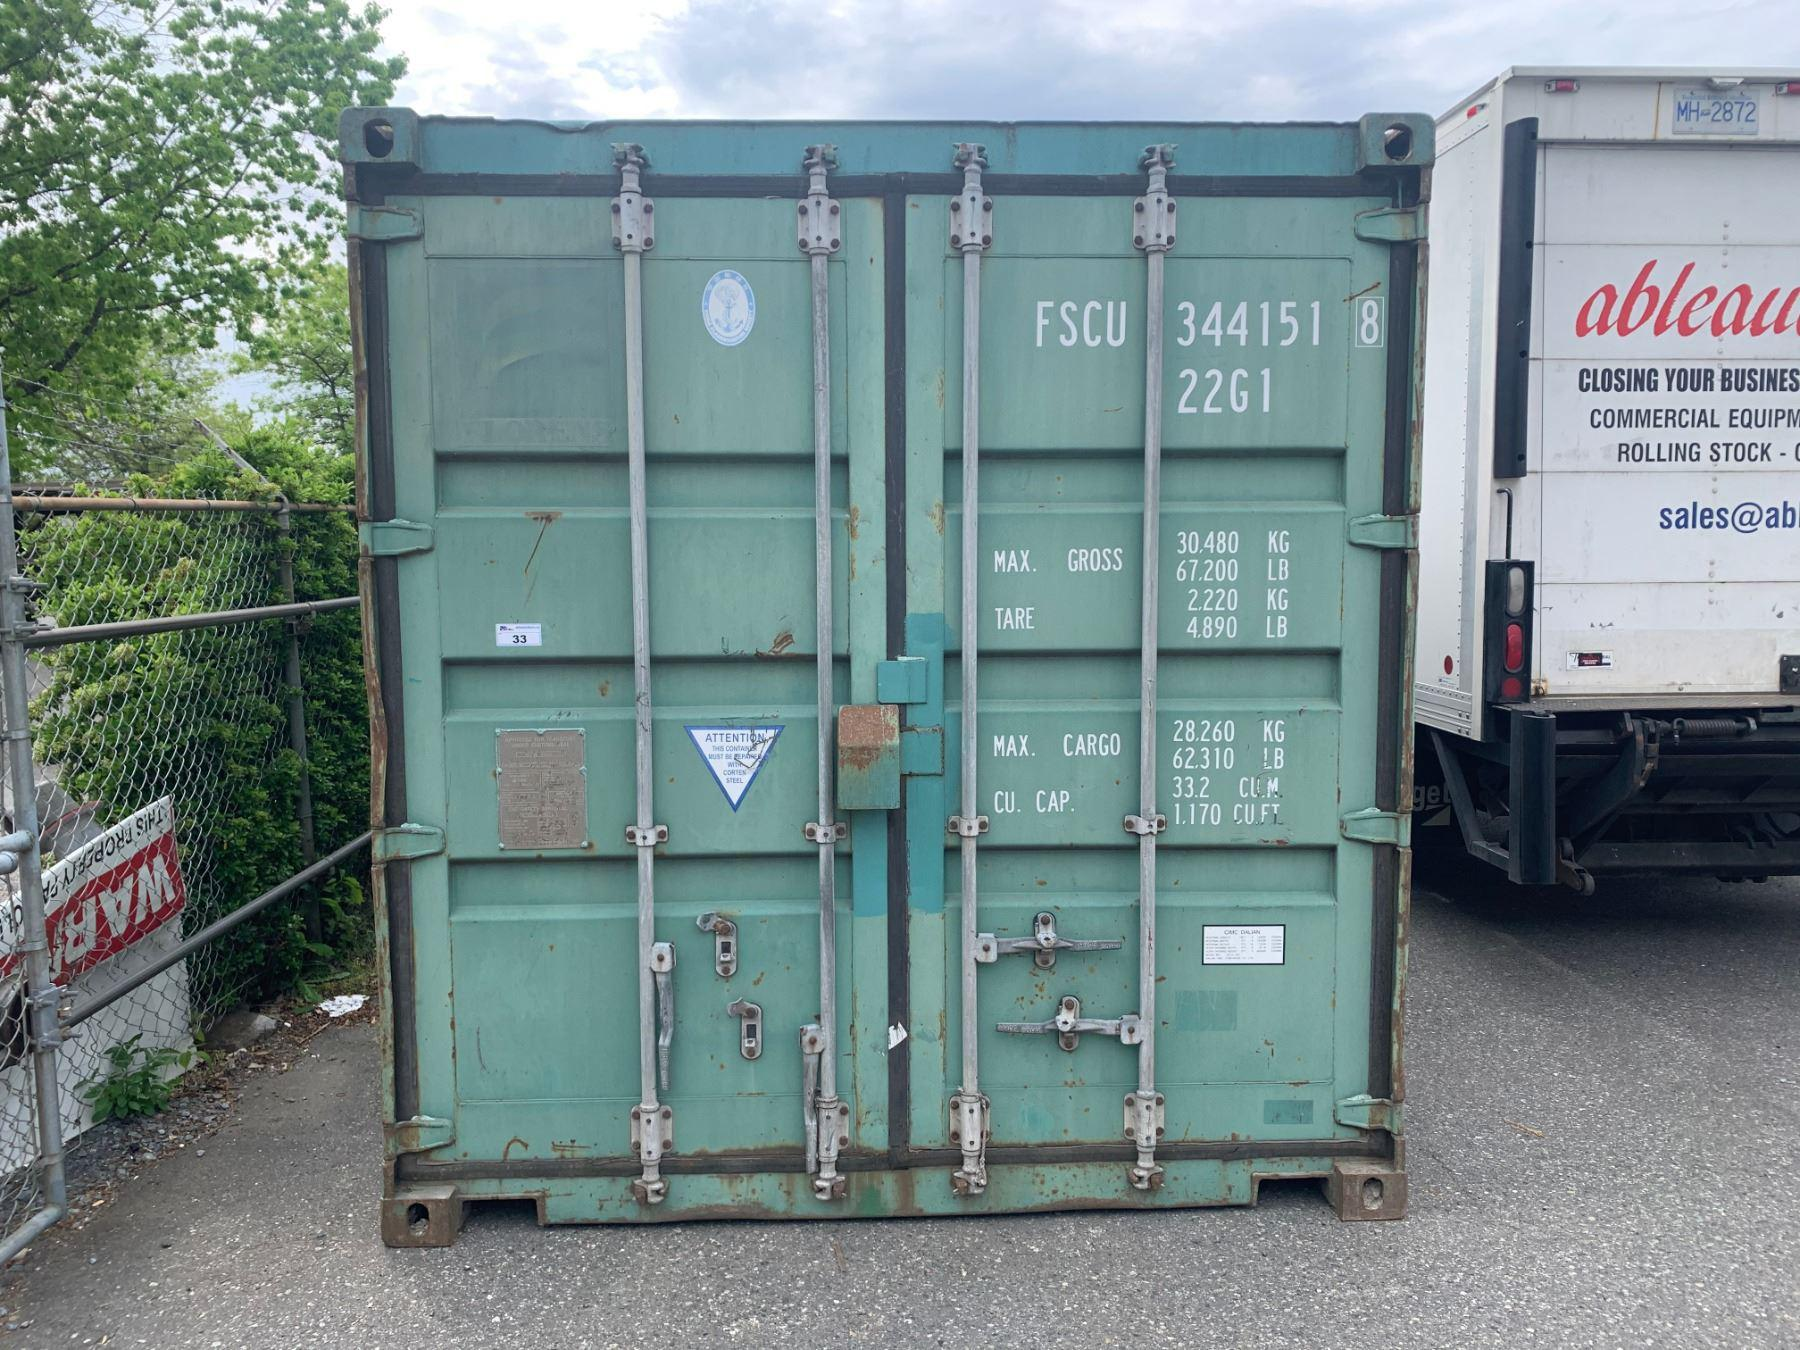ContainerNum: (1030, 294, 1388, 417)
